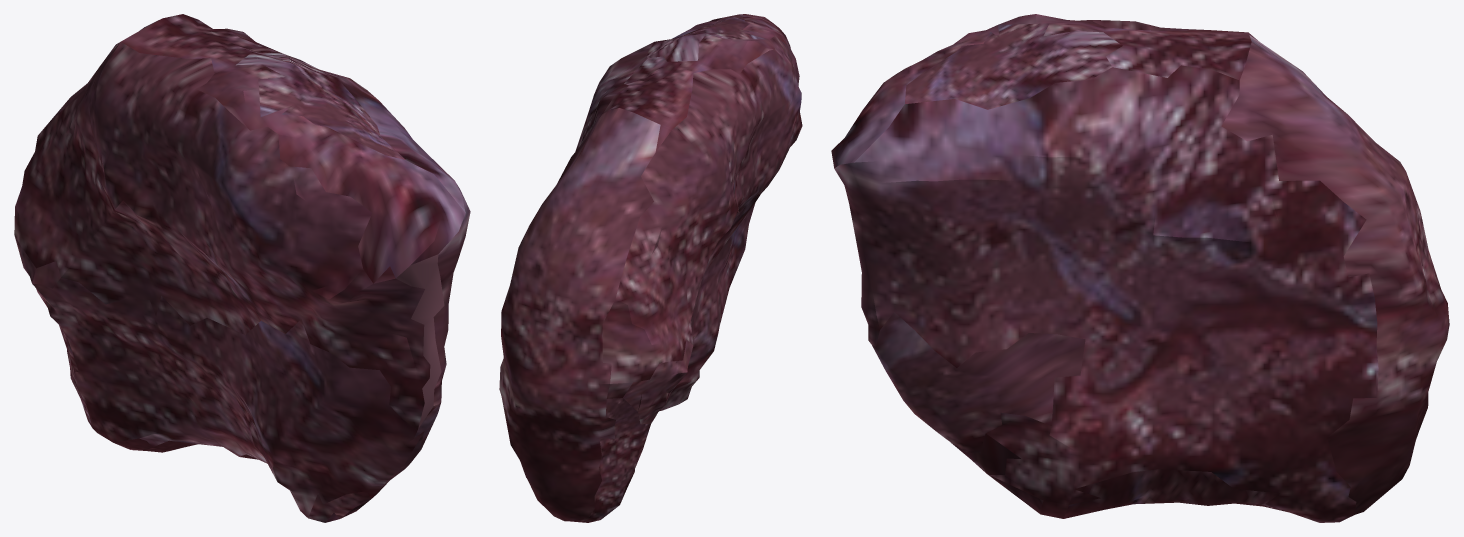
The model's file is AuthenticMeatChunk03.fbx.
3 views of the same model, side by side, from view 1: azimuth 30°, elevation 25°; view 2: azimuth 150°, elevation 25°; view 3: azimuth 270°, elevation 25° (orthographic). The views are drawn at different scales.
Parts seen in each view (by area): view 1: rock.002; view 2: rock.002; view 3: rock.002.
Part boxes in pixels (box(x1,y1,x2,y2)): rock.002: box(14, 14, 470, 522); rock.002: box(499, 14, 802, 522); rock.002: box(831, 14, 1449, 522).
Bounding box in the file's own units: 0.0641 × 0.1262 × 0.1479.
